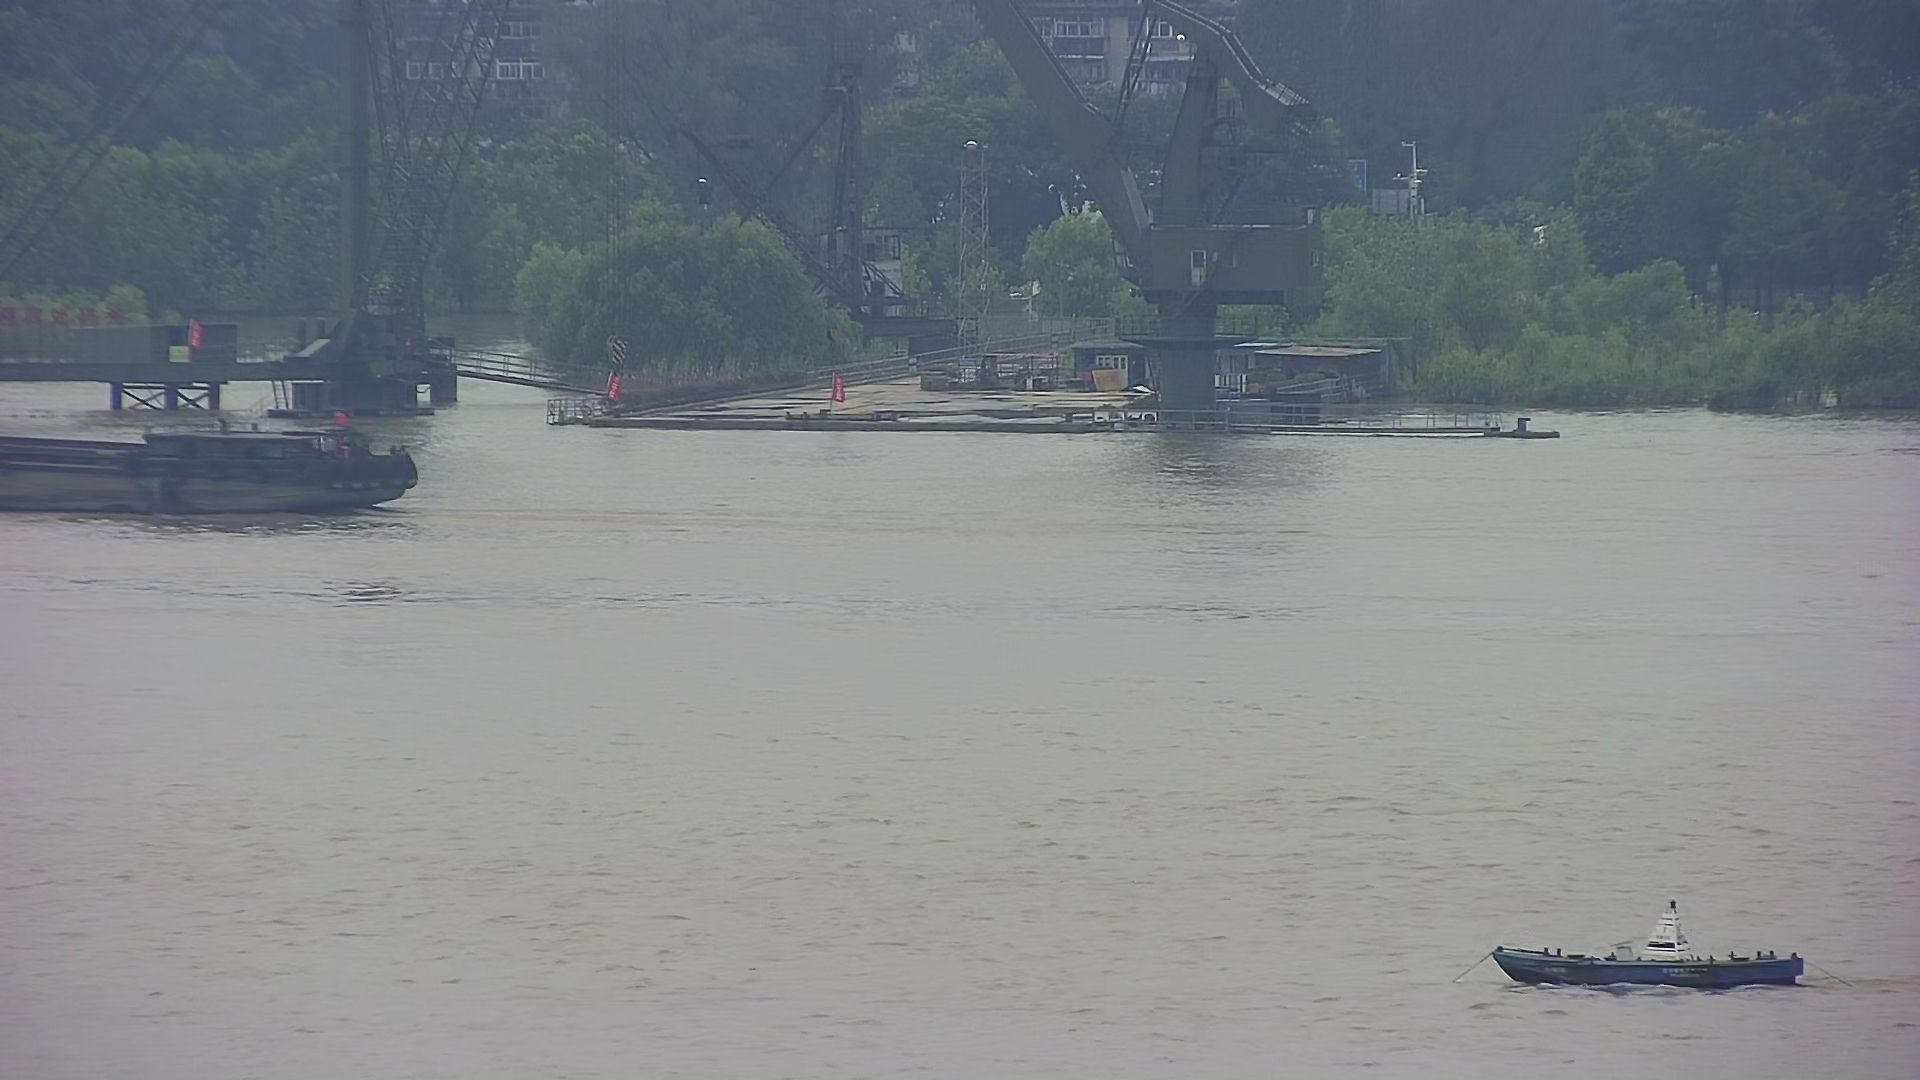boat: (1481, 889, 1818, 998)
platform: (1, 1, 477, 418)
ship: (1, 398, 447, 527)
